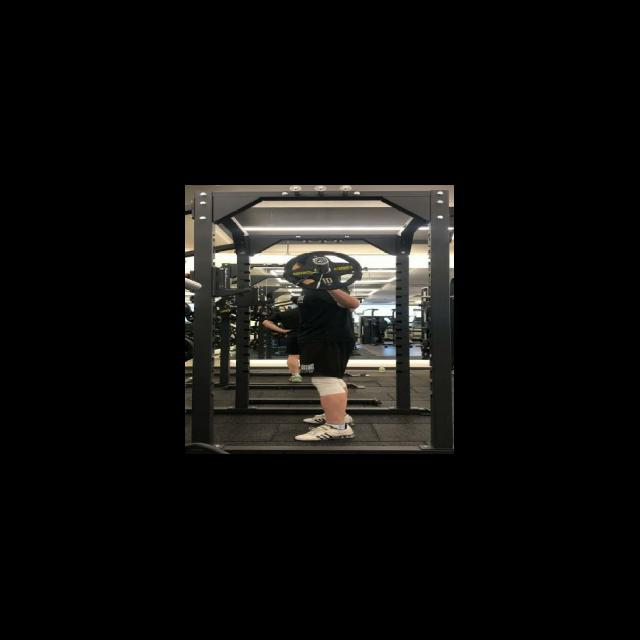barbell: (281, 249, 362, 293)
